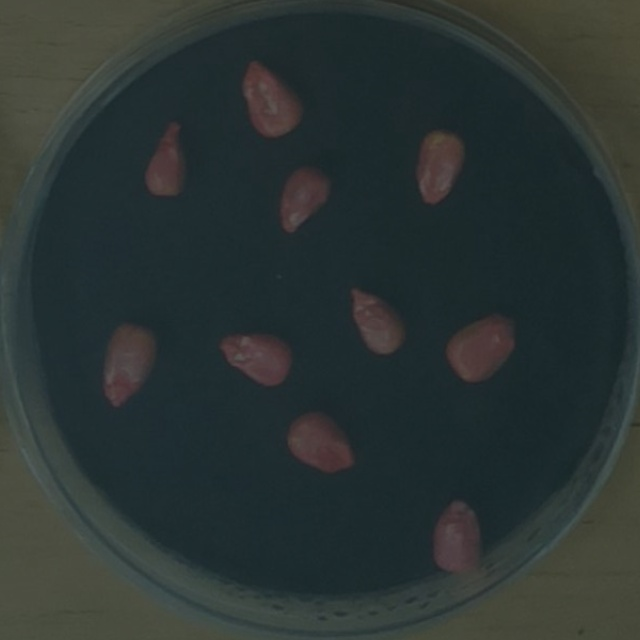Zea mays: (439, 301, 526, 389), (234, 50, 313, 144), (93, 313, 165, 412), (278, 402, 363, 480), (212, 323, 298, 394), (343, 278, 413, 364), (408, 121, 473, 211), (424, 489, 488, 580), (134, 109, 194, 204), (273, 156, 339, 237)
